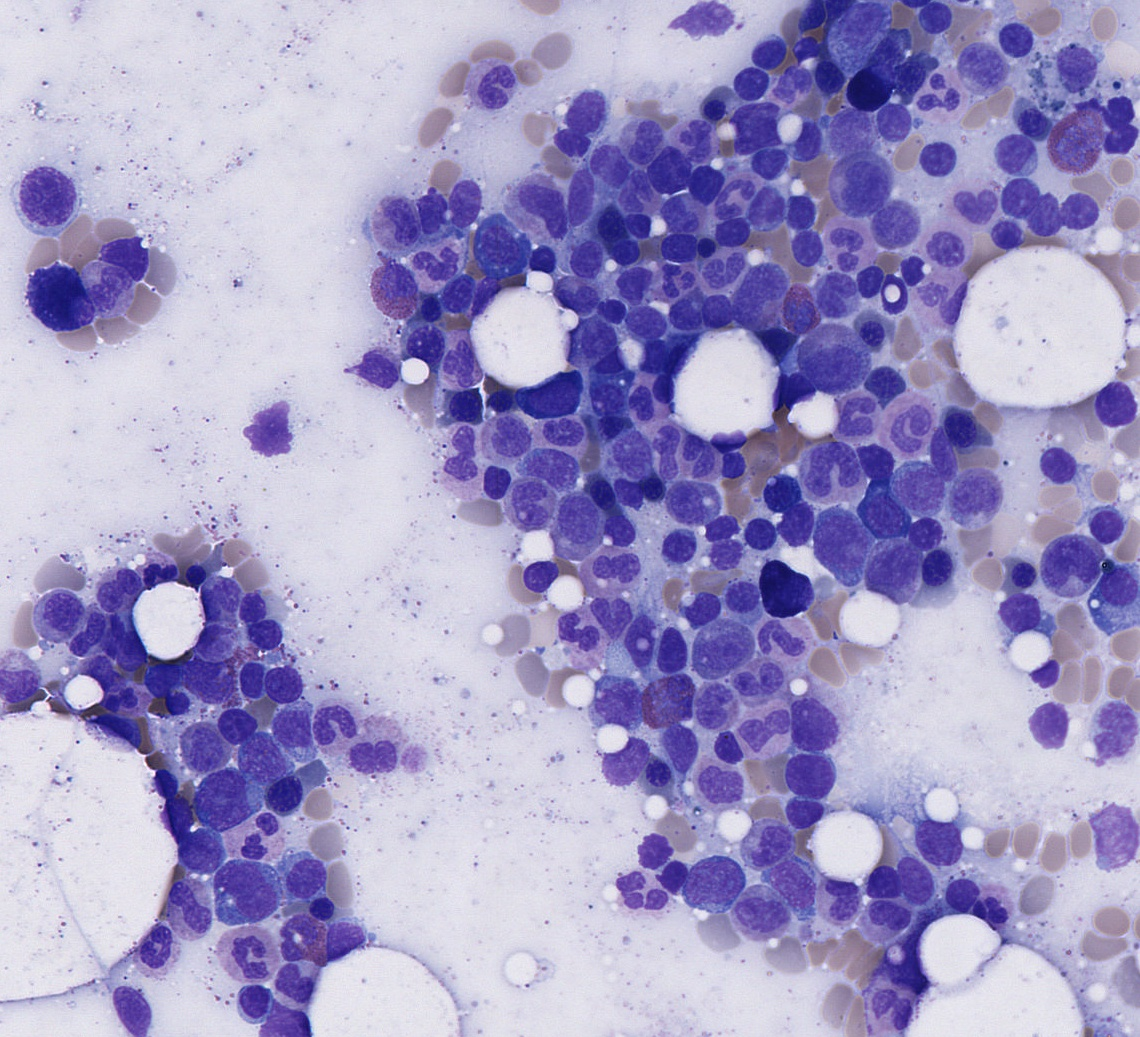objectness: (134, 923, 184, 973), (130, 545, 180, 595), (433, 340, 483, 390), (647, 254, 697, 304), (221, 930, 271, 980), (413, 242, 463, 292), (98, 675, 148, 725), (308, 700, 358, 750), (862, 985, 912, 1035), (611, 869, 661, 919), (886, 399, 936, 449), (585, 539, 635, 589), (918, 69, 968, 119), (829, 393, 879, 443), (462, 57, 512, 107), (674, 114, 724, 164), (707, 172, 757, 222), (969, 882, 1019, 932), (695, 244, 745, 294), (554, 605, 604, 655), (822, 222, 872, 272), (533, 409, 583, 459), (757, 611, 807, 661), (672, 431, 722, 481), (913, 273, 963, 323), (230, 816, 280, 866), (438, 433, 488, 483), (692, 760, 742, 810), (868, 543, 918, 593), (667, 477, 717, 527), (866, 196, 916, 246), (34, 586, 84, 636), (177, 723, 227, 773), (696, 621, 746, 671), (958, 40, 1008, 90), (554, 498, 604, 548), (950, 463, 1000, 513), (806, 335, 856, 385), (371, 253, 421, 303), (773, 283, 823, 333), (636, 678, 686, 728), (1053, 121, 1103, 171), (276, 912, 326, 962), (731, 655, 781, 705), (501, 484, 551, 534), (616, 117, 666, 167), (369, 194, 419, 244), (642, 425, 692, 475), (814, 874, 864, 924), (688, 681, 738, 731), (160, 887, 210, 937), (857, 889, 907, 939), (85, 264, 135, 314), (745, 703, 795, 753), (953, 183, 1003, 233), (657, 189, 707, 239), (832, 157, 882, 207), (764, 58, 814, 108), (1049, 531, 1099, 581), (269, 960, 319, 1010), (553, 270, 603, 320), (802, 438, 852, 488), (734, 267, 784, 317), (609, 163, 659, 213), (194, 572, 244, 622), (193, 618, 243, 668), (479, 415, 529, 465), (741, 818, 791, 868), (515, 176, 565, 226), (88, 561, 138, 611), (590, 588, 640, 638), (781, 754, 831, 804), (198, 772, 248, 822), (222, 862, 272, 912), (686, 856, 736, 906), (815, 519, 865, 569), (803, 47, 853, 97), (587, 284, 637, 334), (612, 259, 662, 309), (136, 653, 186, 703), (106, 984, 156, 1034), (65, 606, 115, 656), (141, 757, 191, 807), (774, 500, 824, 550), (867, 270, 917, 320), (603, 467, 653, 517), (893, 245, 943, 295), (779, 21, 829, 71), (576, 467, 626, 517), (562, 84, 612, 134), (104, 226, 154, 276), (173, 547, 223, 597), (820, 104, 870, 154), (718, 572, 768, 622), (767, 856, 817, 906), (349, 344, 399, 394), (296, 880, 346, 930), (653, 329, 703, 379), (571, 310, 621, 360), (652, 720, 702, 770), (404, 282, 454, 332), (860, 489, 910, 539), (587, 338, 637, 388), (705, 413, 755, 463), (852, 434, 902, 484), (617, 612, 667, 662), (343, 730, 393, 780), (626, 333, 676, 383), (904, 507, 954, 557), (703, 722, 753, 772), (935, 866, 985, 916), (602, 430, 652, 480), (641, 145, 691, 195), (529, 367, 579, 417), (881, 941, 931, 991), (917, 816, 967, 866), (663, 290, 713, 340), (88, 608, 138, 658), (230, 580, 280, 630), (472, 455, 522, 505), (85, 703, 135, 753), (233, 739, 283, 789), (785, 702, 835, 752), (649, 225, 699, 275), (997, 588, 1047, 638), (729, 97, 779, 147), (405, 188, 455, 238), (512, 550, 562, 600), (587, 399, 637, 449), (33, 269, 83, 319), (615, 198, 665, 248), (1024, 698, 1074, 748), (21, 173, 71, 223), (699, 530, 749, 580), (711, 438, 761, 488), (75, 645, 125, 695), (594, 505, 644, 555), (587, 136, 637, 186), (751, 557, 801, 607), (915, 430, 965, 480), (1051, 40, 1101, 90), (891, 851, 941, 901), (556, 173, 606, 223), (646, 624, 696, 674), (588, 195, 638, 245), (626, 823, 676, 873), (683, 161, 733, 211), (756, 466, 806, 516), (642, 365, 692, 415), (706, 208, 756, 258), (257, 657, 307, 707), (649, 852, 699, 902), (600, 736, 650, 786), (470, 374, 520, 424), (439, 180, 489, 230), (242, 606, 292, 656), (889, 52, 939, 102), (842, 254, 892, 304), (691, 285, 741, 335), (154, 787, 204, 837), (183, 657, 233, 707), (861, 31, 911, 81), (209, 697, 259, 747), (1020, 651, 1070, 701), (693, 501, 743, 551), (598, 226, 648, 276), (1029, 432, 1079, 482), (247, 402, 297, 452), (857, 856, 907, 906), (545, 114, 595, 164), (592, 679, 642, 729), (523, 441, 573, 491), (561, 231, 611, 281), (270, 704, 320, 754), (106, 626, 156, 676), (745, 137, 795, 187), (787, 118, 837, 168), (777, 790, 827, 840), (733, 510, 783, 560), (740, 180, 790, 230), (273, 853, 323, 903), (677, 584, 727, 634), (990, 14, 1040, 64), (619, 297, 669, 347), (226, 656, 276, 706), (988, 128, 1038, 178), (177, 828, 227, 878), (652, 519, 702, 569), (782, 219, 832, 269), (741, 25, 791, 75), (724, 56, 774, 106), (1081, 498, 1131, 548), (868, 93, 918, 143), (912, 131, 962, 181), (993, 169, 1043, 219), (775, 184, 825, 234), (316, 912, 366, 962), (228, 979, 278, 1029), (934, 405, 984, 455), (858, 355, 908, 405), (579, 372, 629, 422), (1008, 96, 1058, 146), (398, 316, 448, 366), (259, 769, 309, 819), (635, 748, 685, 798), (434, 268, 484, 318), (998, 549, 1048, 599), (909, 542, 959, 592), (436, 381, 486, 431), (689, 82, 739, 132), (848, 307, 898, 357), (473, 223, 523, 273), (1092, 560, 1140, 610), (834, 0, 884, 48), (1093, 380, 1140, 430), (1094, 810, 1140, 860), (1097, 705, 1140, 755), (1099, 102, 1140, 152), (677, 0, 727, 41), (0, 659, 39, 709), (259, 999, 309, 1037), (784, 0, 834, 37), (910, 0, 960, 37)
